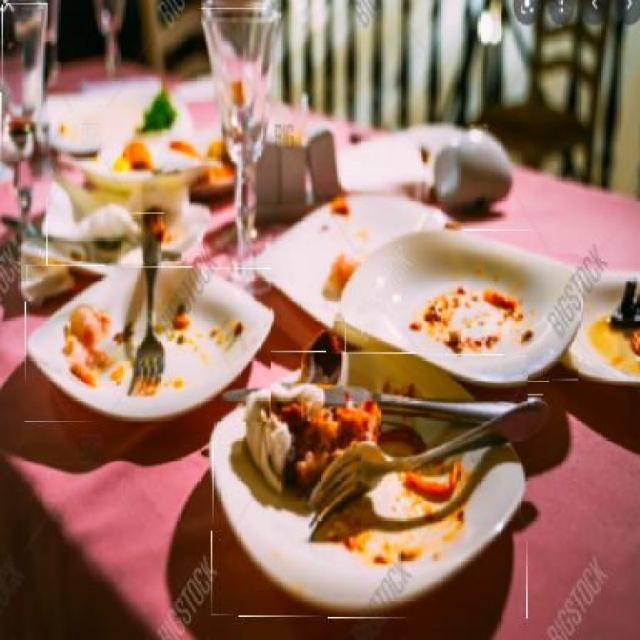Glass: (202, 8, 269, 289), (0, 3, 49, 268)
Plate: (212, 352, 530, 620), (26, 266, 273, 423), (345, 230, 581, 382), (263, 202, 454, 318), (549, 269, 639, 386)
